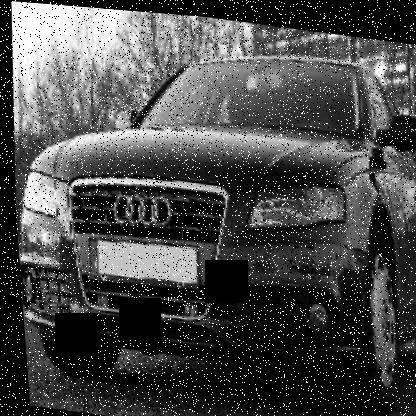not_emergency: (19, 23, 415, 415)
